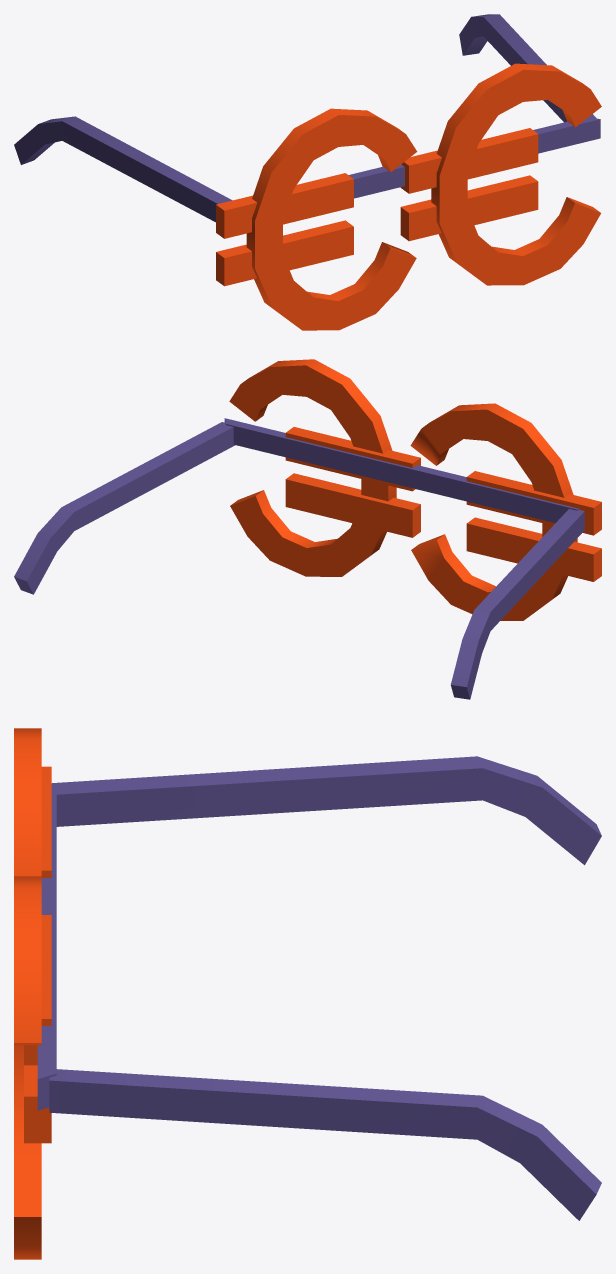
Rendered from Euro_glasses.fbx.
The picture shows the model from 3 angles, top to bottom: view 1: azimuth 30°, elevation 25°; view 2: azimuth 150°, elevation 25°; view 3: azimuth 270°, elevation 25°; orthographic projection. The views are drawn at different scales.
Visible parts, largest first — view 1: Euro_glasses.c, Glasses_stick_48, Glasses_stick_49; view 2: Euro_glasses.c, Glasses_stick_49, Glasses_stick_48; view 3: Glasses_stick_49, Glasses_stick_48, Euro_glasses.c.
Part boxes in pixels (bbox=[...]): Euro_glasses.c: bbox=[216, 63, 601, 330]; Glasses_stick_48: bbox=[14, 116, 232, 222]; Glasses_stick_49: bbox=[459, 14, 595, 122]; Euro_glasses.c: bbox=[224, 359, 601, 620]; Glasses_stick_49: bbox=[14, 422, 235, 594]; Glasses_stick_48: bbox=[450, 509, 584, 699]; Glasses_stick_49: bbox=[49, 1069, 601, 1220]; Glasses_stick_48: bbox=[51, 756, 601, 865]; Euro_glasses.c: bbox=[14, 728, 56, 1259].
Bounding box in the file's own units: 0.6837 × 0.3051 × 0.4586.
